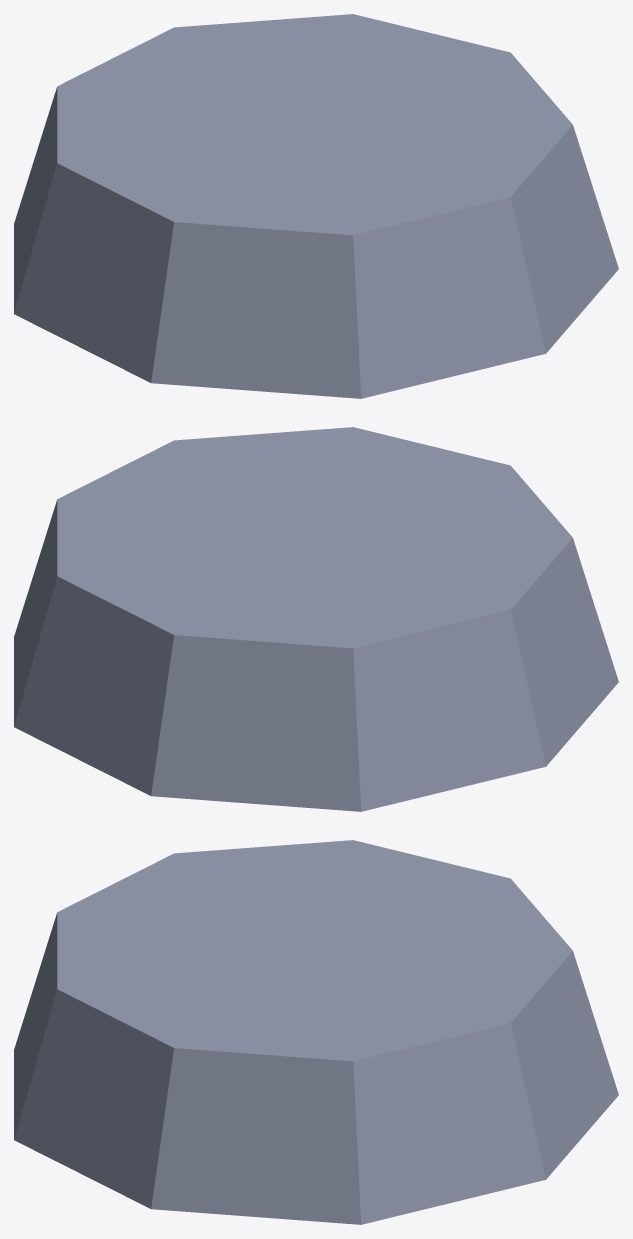
File: robo-pad-empty.fbx
3 views of the same model, one above another, from view 1: azimuth 30°, elevation 25°; view 2: azimuth 150°, elevation 25°; view 3: azimuth 270°, elevation 25° (orthographic).
Visible parts, largest first — view 1: robo-pad-empty.001; view 2: robo-pad-empty.001; view 3: robo-pad-empty.001.
Boxes of the visible parts, bbox=[...] form: robo-pad-empty.001: bbox=[14, 14, 618, 398]; robo-pad-empty.001: bbox=[14, 427, 618, 811]; robo-pad-empty.001: bbox=[14, 840, 618, 1224].
Size of the model in its own units: 616 by 160 by 607.
